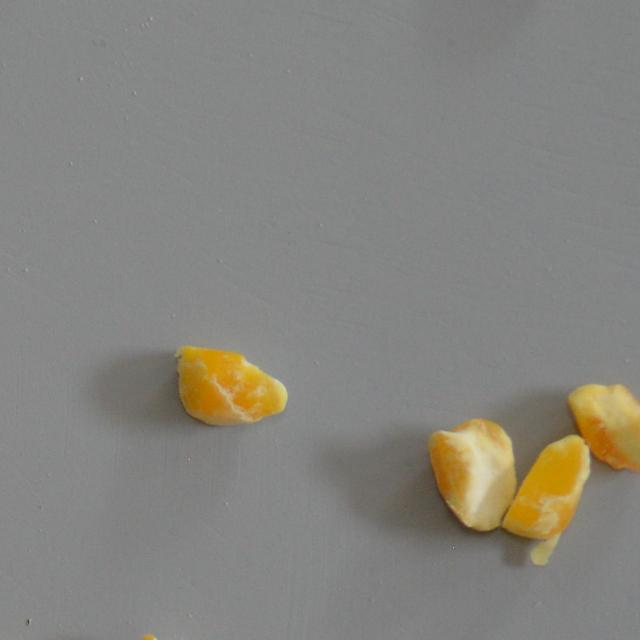pelicula: (500, 434, 594, 566), (170, 338, 290, 428), (428, 414, 516, 533), (564, 380, 640, 480)
